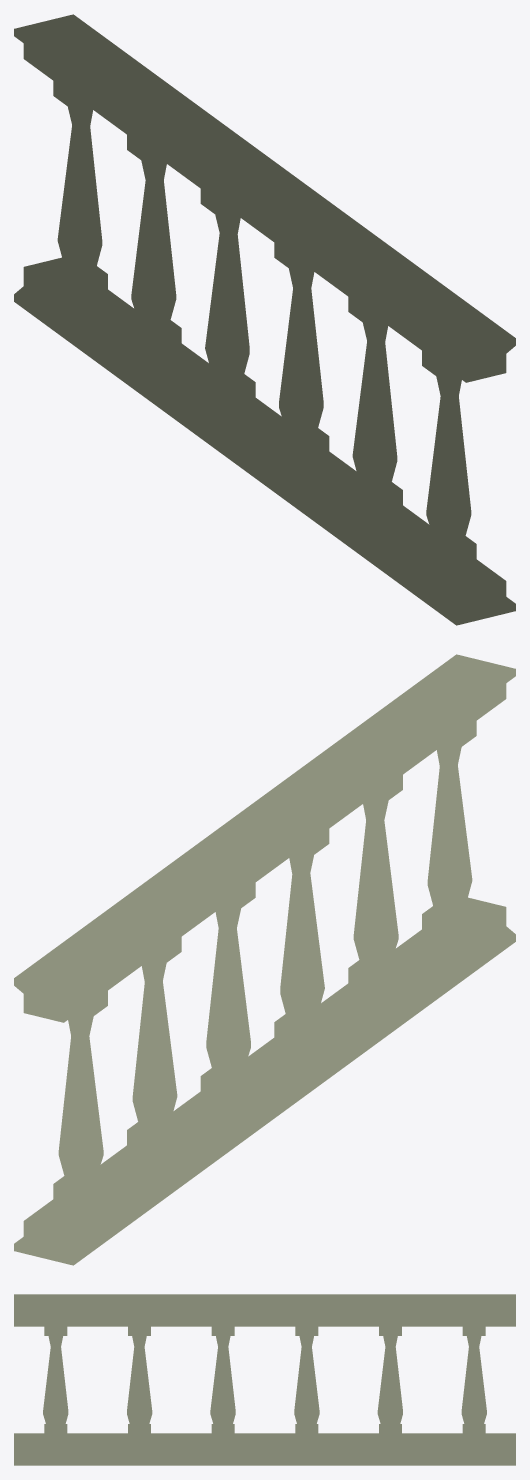
The model's file is railing.dae.
The picture shows the model from 3 angles, top to bottom: view 1: azimuth 30°, elevation 25°; view 2: azimuth 150°, elevation 25°; view 3: azimuth 270°, elevation 25°; orthographic projection. The views are drawn at different scales.
Parts seen in each view (by area): view 1: cube2-0; view 2: cube2-0; view 3: cube2-0.
Part boxes in pixels (x1=…): cube2-0: x1=14, y1=14, x2=515, y2=625; cube2-0: x1=14, y1=654, x2=515, y2=1265; cube2-0: x1=14, y1=1294, x2=515, y2=1465.
Bounding box in the file's own units: 0.1466 × 0.6424 × 1.89.
